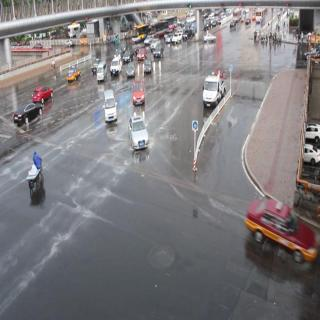BigCar: (149, 17, 164, 36), (129, 26, 145, 43), (256, 10, 268, 26)
Car: (246, 188, 319, 269), (203, 70, 227, 111), (125, 116, 150, 151), (13, 102, 44, 126), (102, 88, 119, 128), (31, 84, 58, 104), (131, 80, 147, 105), (66, 67, 83, 82), (111, 56, 123, 77), (97, 62, 108, 83), (153, 43, 165, 61), (144, 58, 154, 76), (205, 33, 217, 46), (89, 58, 98, 75), (136, 46, 146, 60), (127, 62, 135, 78), (174, 32, 183, 46), (184, 27, 193, 41), (164, 32, 172, 46), (124, 51, 134, 62), (65, 39, 75, 50), (34, 41, 43, 52), (230, 19, 236, 31)
